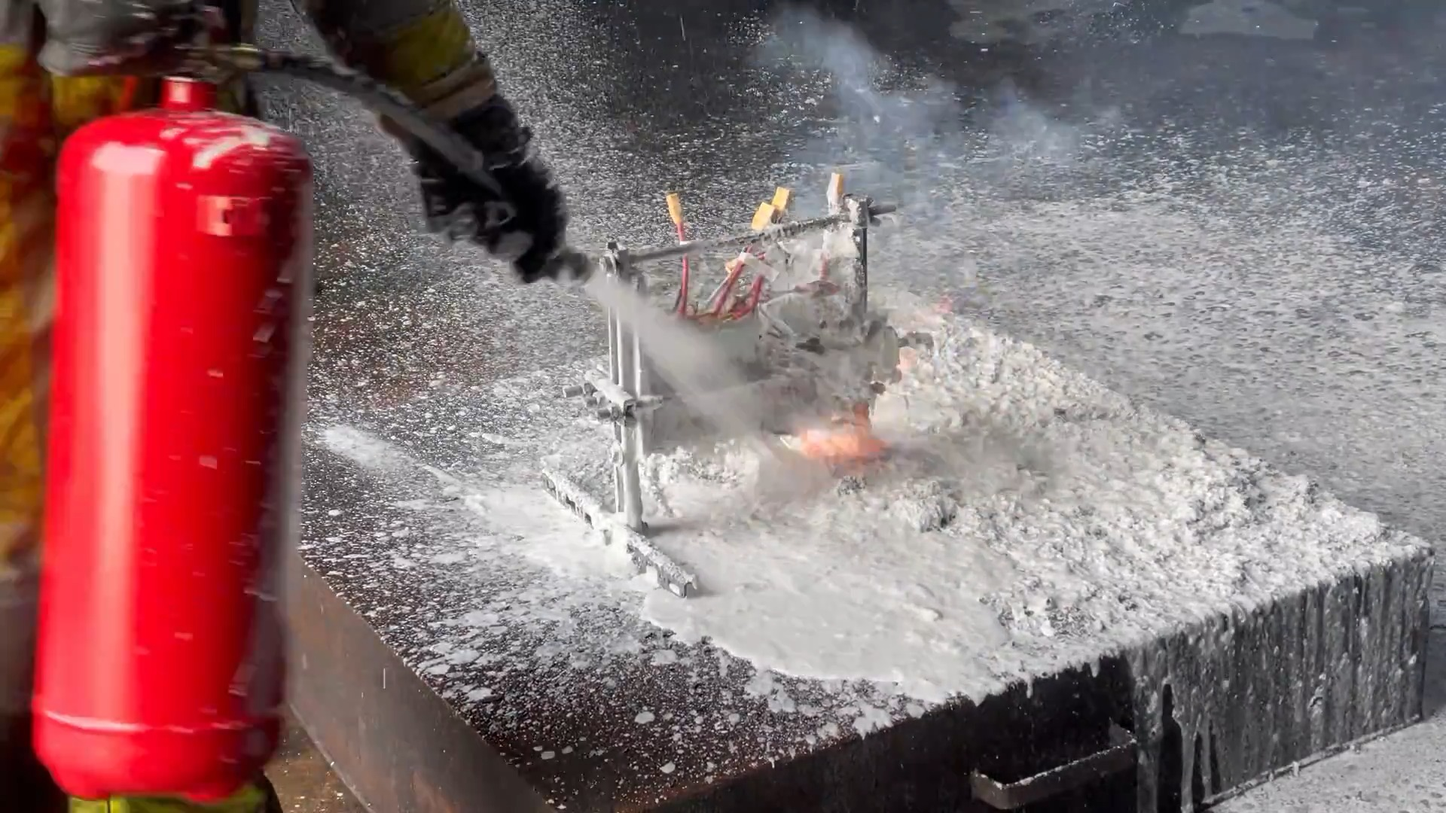fire: (776, 400, 898, 474), (895, 296, 952, 385)
smoke: (756, 8, 1039, 329)
